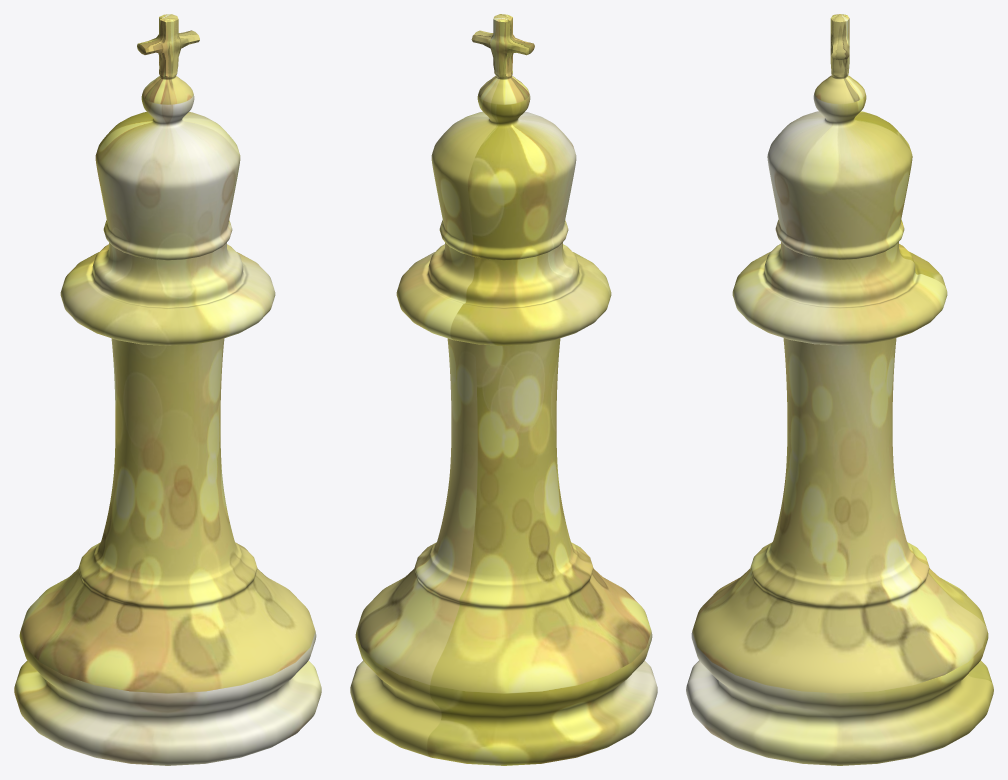
File: KingBlue.obj
3 renders of one model, left to right at view 1: azimuth 30°, elevation 25°; view 2: azimuth 150°, elevation 25°; view 3: azimuth 270°, elevation 25°, orthographic.
Visible parts, largest first — view 1: mesh01; view 2: mesh01; view 3: mesh01.
Boxes of the visible parts, x1,y1,x2,y2 form: mesh01: (14,14,321,765); mesh01: (350,14,657,765); mesh01: (686,14,993,765).
Bounding box in the file's own units: 4.76 × 11.79 × 4.76.
